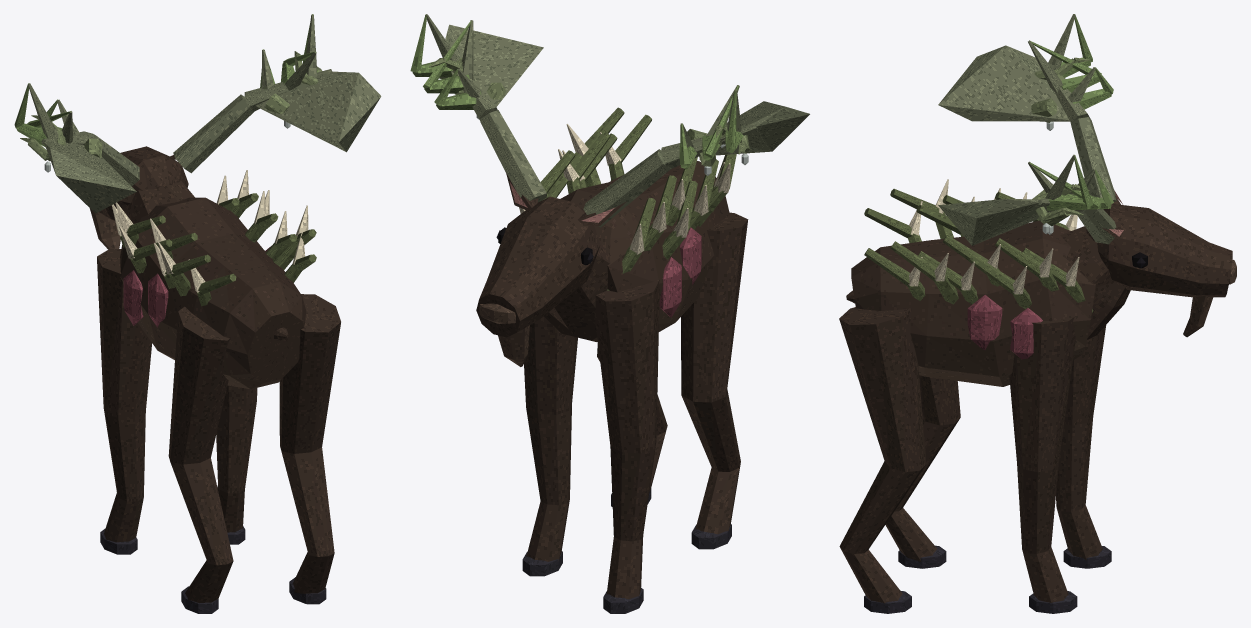
File: mon_zoose_thorny.glb
3 views of the same model, side by side, from view 1: azimuth 30°, elevation 25°; view 2: azimuth 150°, elevation 25°; view 3: azimuth 270°, elevation 25° (orthographic). The views are drawn at different scales.
Parts seen in each view (by area): view 1: closed_body; view 2: closed_body; view 3: closed_body.
Boxes of the visible parts, left/top/right/bottom form: closed_body: left=14, top=14, right=381, bottom=613; closed_body: left=410, top=14, right=809, bottom=613; closed_body: left=839, top=14, right=1236, bottom=613.
Bounding box in the file's own units: 2.03 × 2.96 × 2.11.
2 materials, 2 textured.
